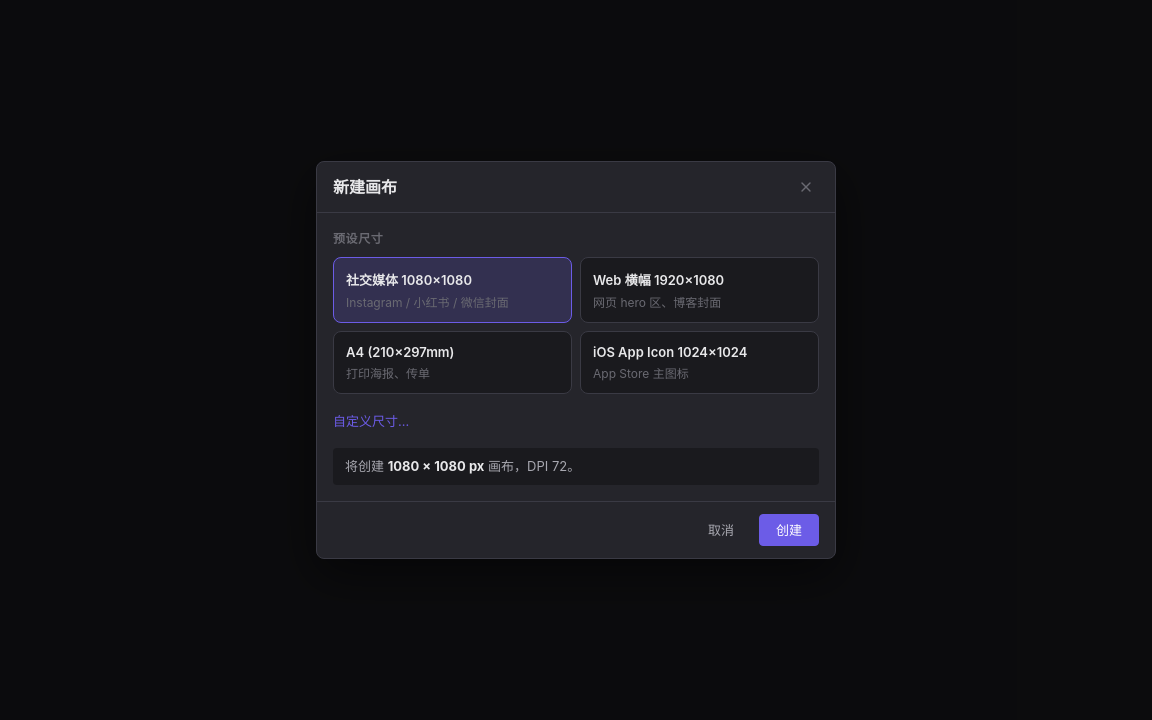
Test: NewCanvasDialog › selecting a different preset updates the preview
Click the button with class "new-canvas__preset" that starts with "iOS App Icon 1024×1024" at {"x": 700, "y": 362}, box [580,330,819,394]
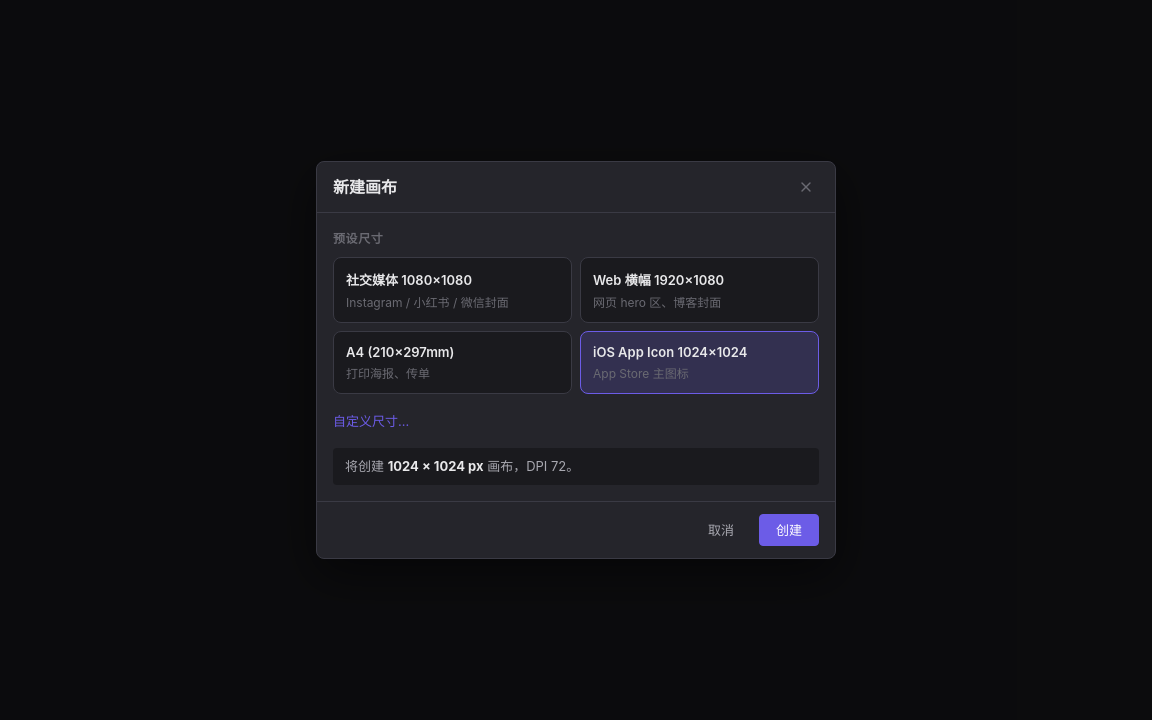
Result: the text "1024 × 1024 px" is shown at [388,458,484,474]
